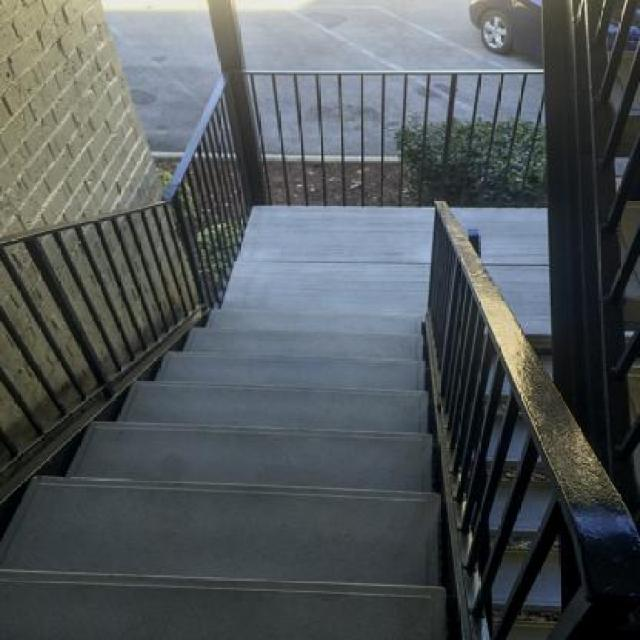stair: (1, 19, 640, 638)
